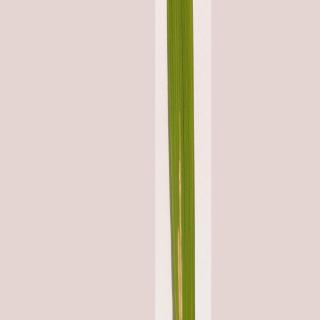Hawar-Daun: (169, 121, 192, 319)
